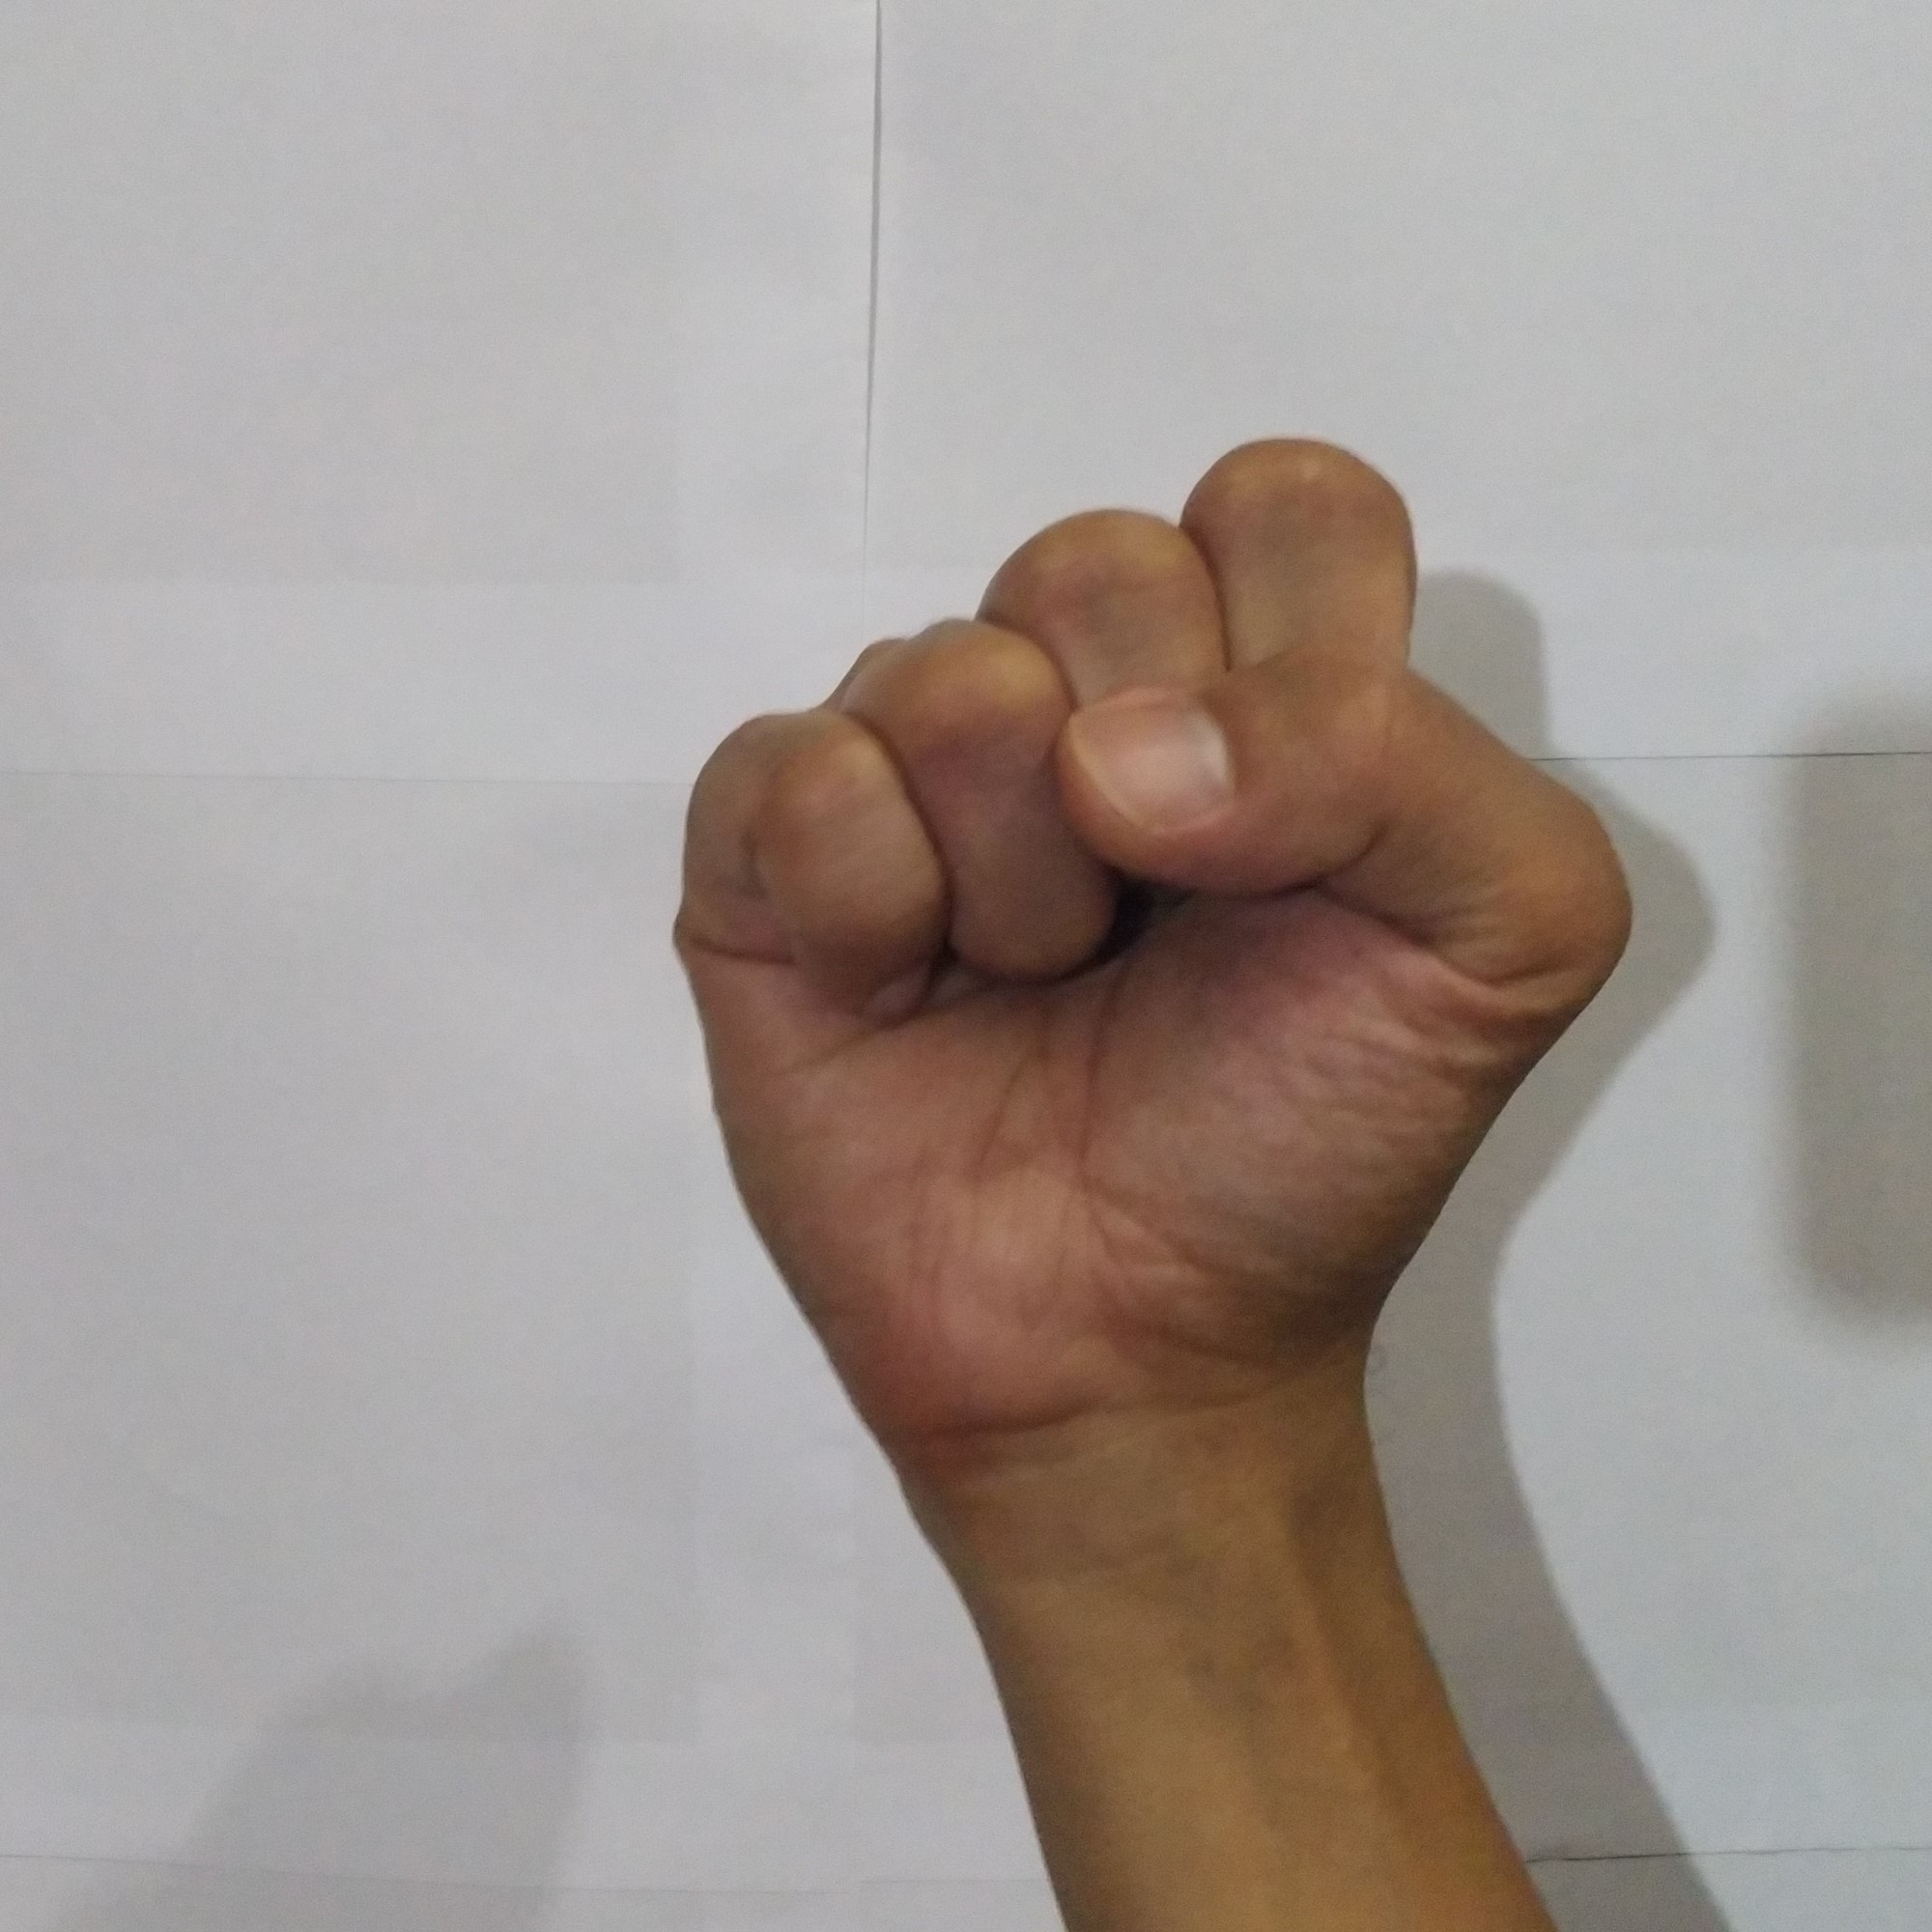S: (635, 412, 1663, 1417)
